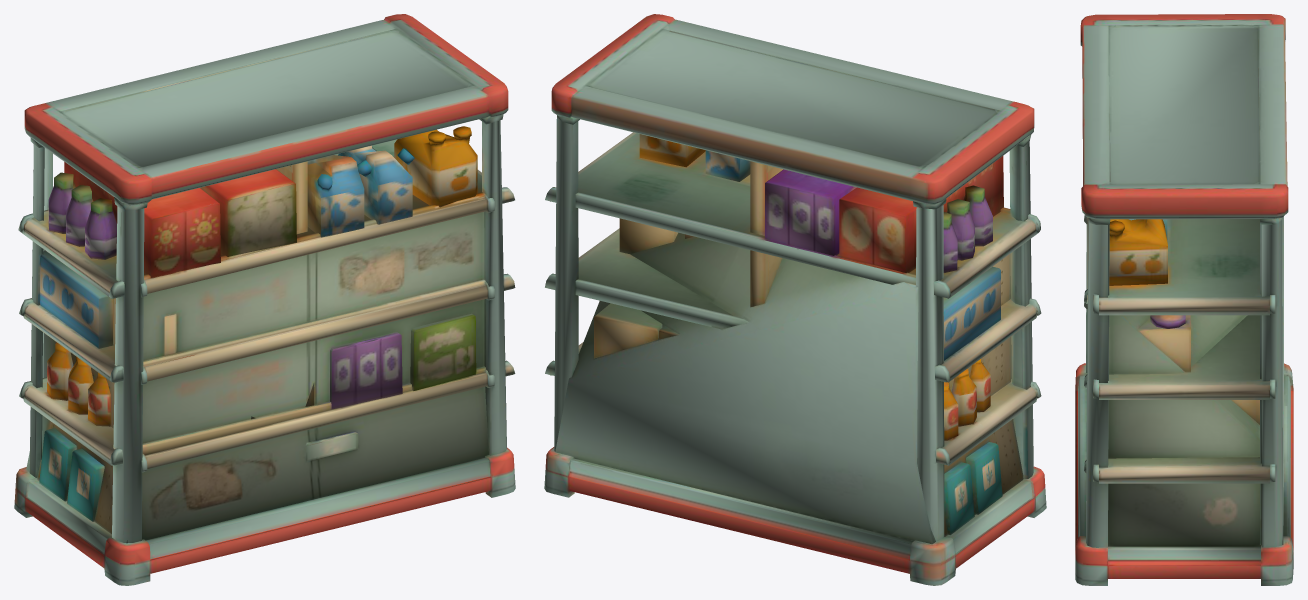
File: shelf-straight.glb
3 renders of one model, left to right at view 1: azimuth 30°, elevation 25°; view 2: azimuth 150°, elevation 25°; view 3: azimuth 270°, elevation 25°, orthographic. The views are drawn at different scales.
Parts seen in each view (by area): view 1: Straight Grocery Shelf; view 2: Straight Grocery Shelf; view 3: Straight Grocery Shelf.
Boxes of the visible parts, x1,y1,x2,y2 form: Straight Grocery Shelf: (14,14,515,585); Straight Grocery Shelf: (544,14,1046,585); Straight Grocery Shelf: (1075,14,1293,585).
Bounding box in the file's own units: 0.998 × 0.9473 × 0.4824.
Materials: 1 (1 with a texture image).
